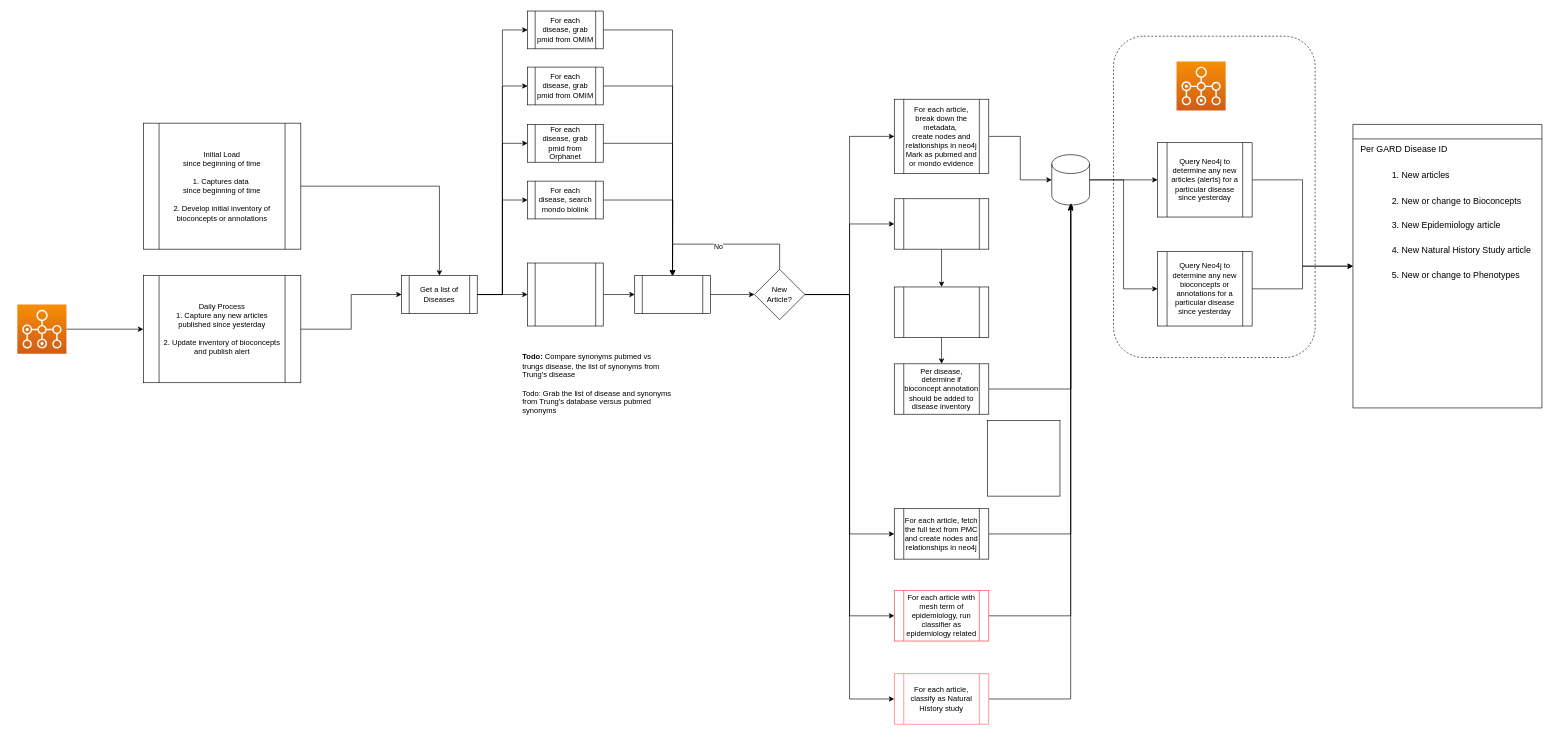
This 1553x735 diagram has some shape labels left out. The shapes that lost their labels are listed below. From the top down, each one's box as (x1, y1, x2, y2) in pixels, then its label:
(1051, 154, 1090, 205): Neo4j
(894, 198, 989, 249): For each article, invoke pubtator on the abstract
(1352, 124, 1542, 408): Alert System
(527, 262, 603, 326): For each disease, search pubmed for articles published within given dates
(634, 275, 710, 313): For each article
(894, 286, 989, 337): Create nodes and relationships for each annotation
(17, 304, 66, 354): AWS Batch Image
(987, 420, 1060, 496): Bioconcepts 1. Gene 2. Variant 3. Disease 4. Chemical 5. Species 6. Cell Line
